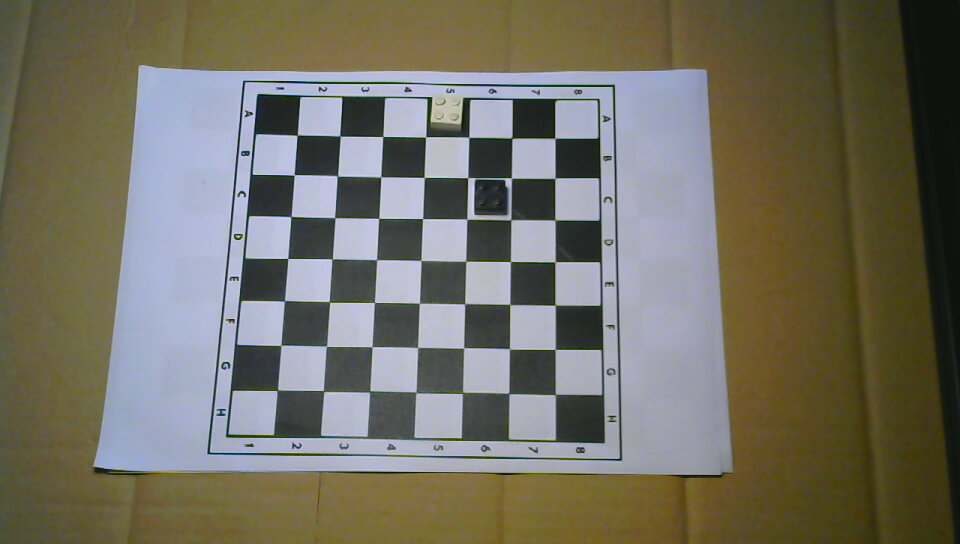bp: (472, 178, 507, 216)
wp: (429, 93, 464, 133)
